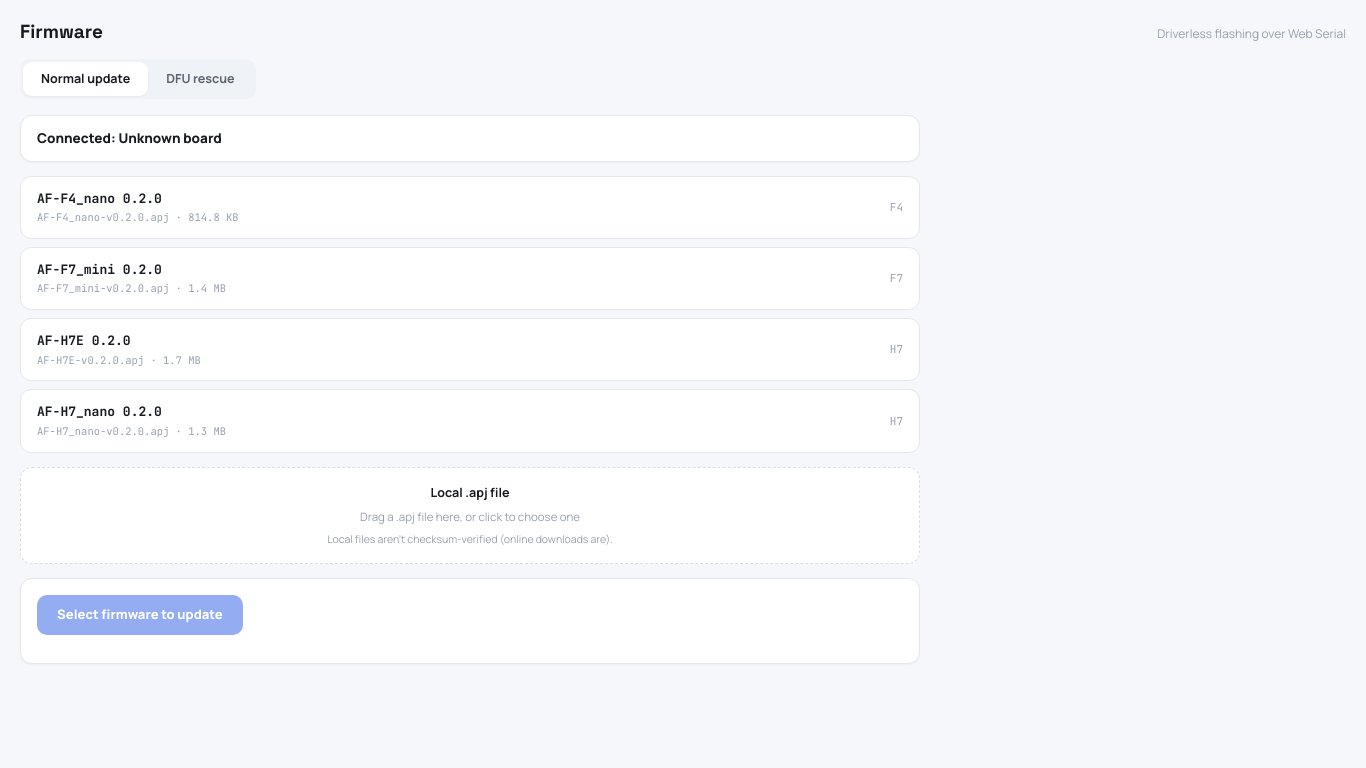
Test: FirmwarePage — online list (Tab 1) › opens a confirm dialog naming the board/version when Update is clicked while connected, and Cancel returns to idle
Click the button "AF-F4_nano 0.2.0 AF-F4_nano-v0.2.0.apj · 814.8 KB F4" at (76, 198), box [20,176,920,239]
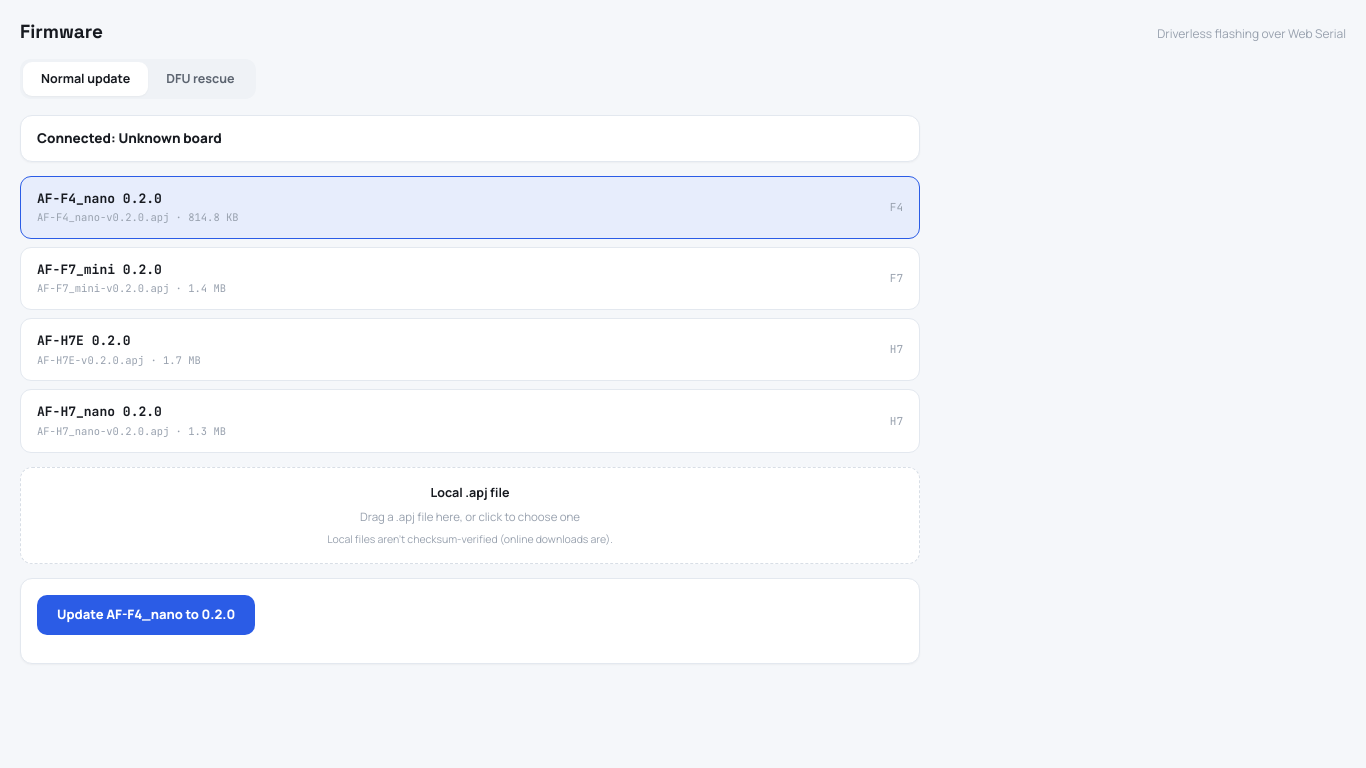
Click the button "Update AF-F4_nano to 0.2.0" at (146, 615), box [37,595,255,635]
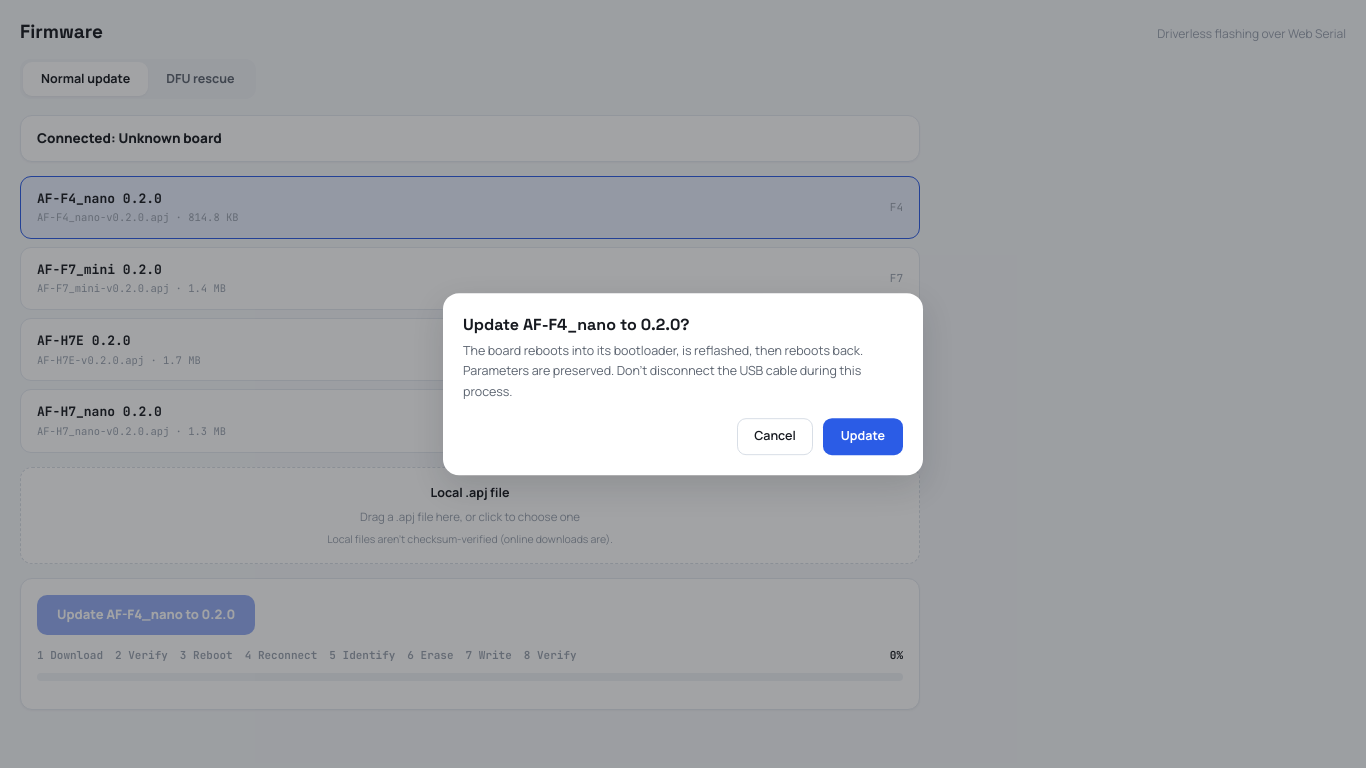
Check: the text "Update AF-F4_nano to 0.2.0?" is shown, box [463,314,690,335]
Click the button "Cancel" at (775, 436), box [737,418,813,455]
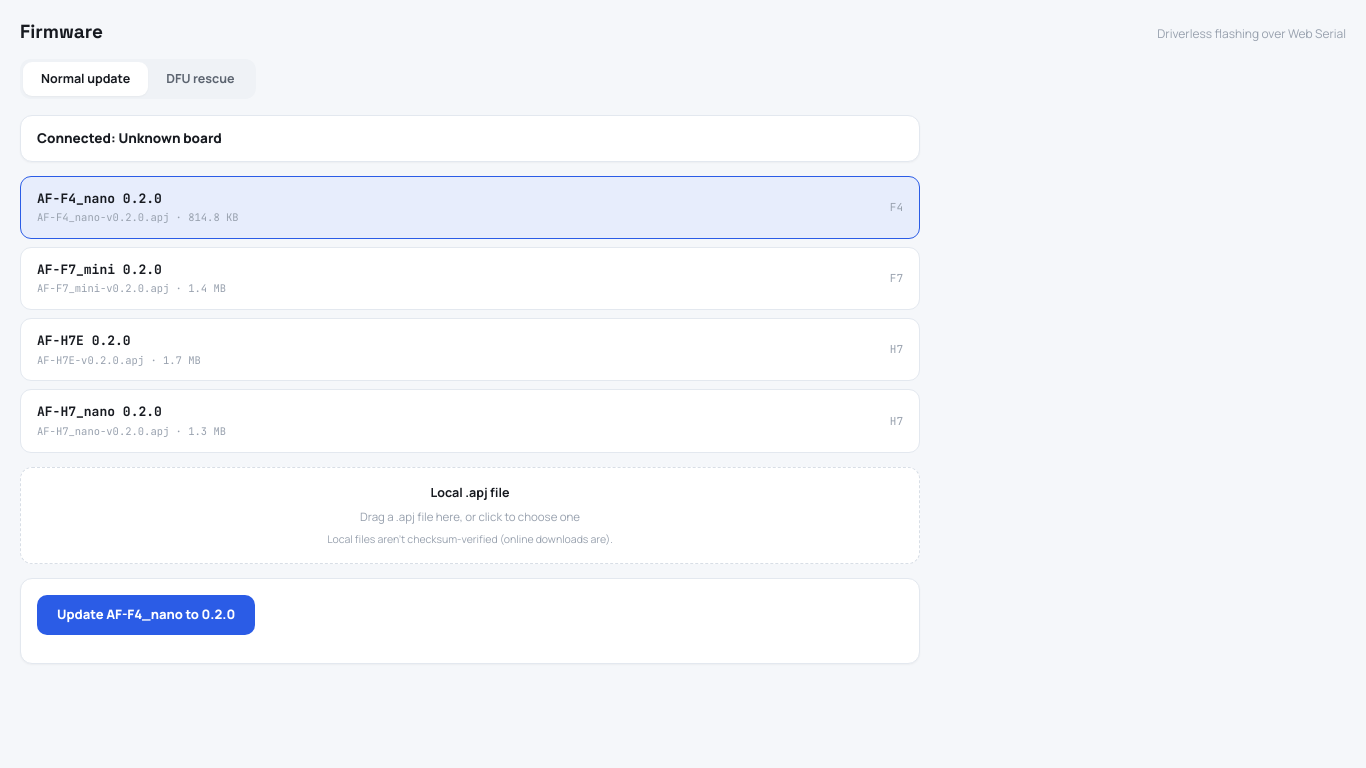
Check: the dialog is gone
